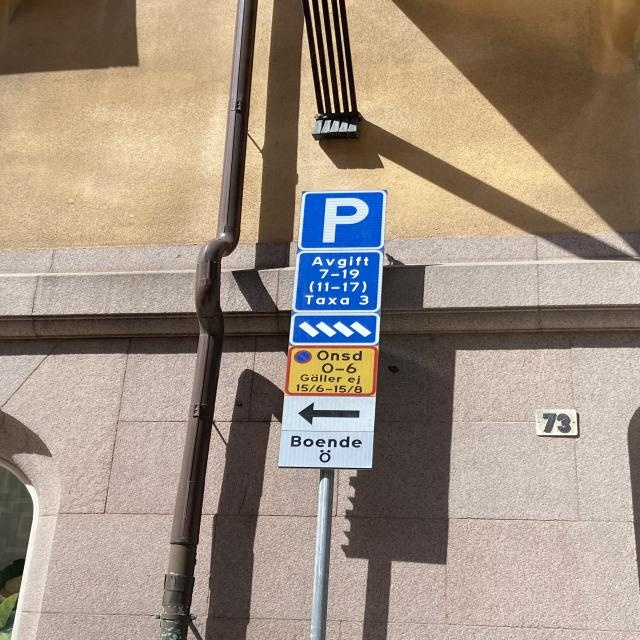P-skylt: (297, 187, 388, 250)
